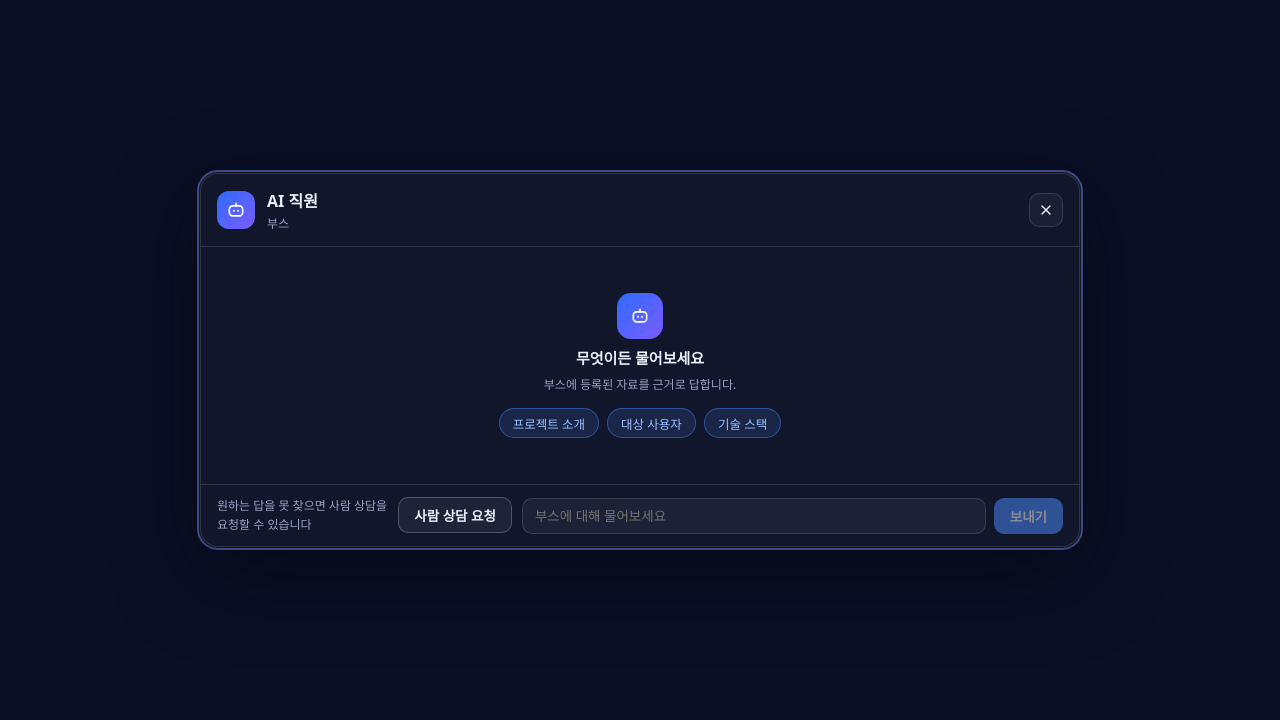
AiChatOverlay 실서버 결선·SSE 렌더링 › 종료 sequence 결번을 잘린 응답으로 안내한다
Click the button "프로젝트 소개" at (549, 423), box [499,408,599,438]
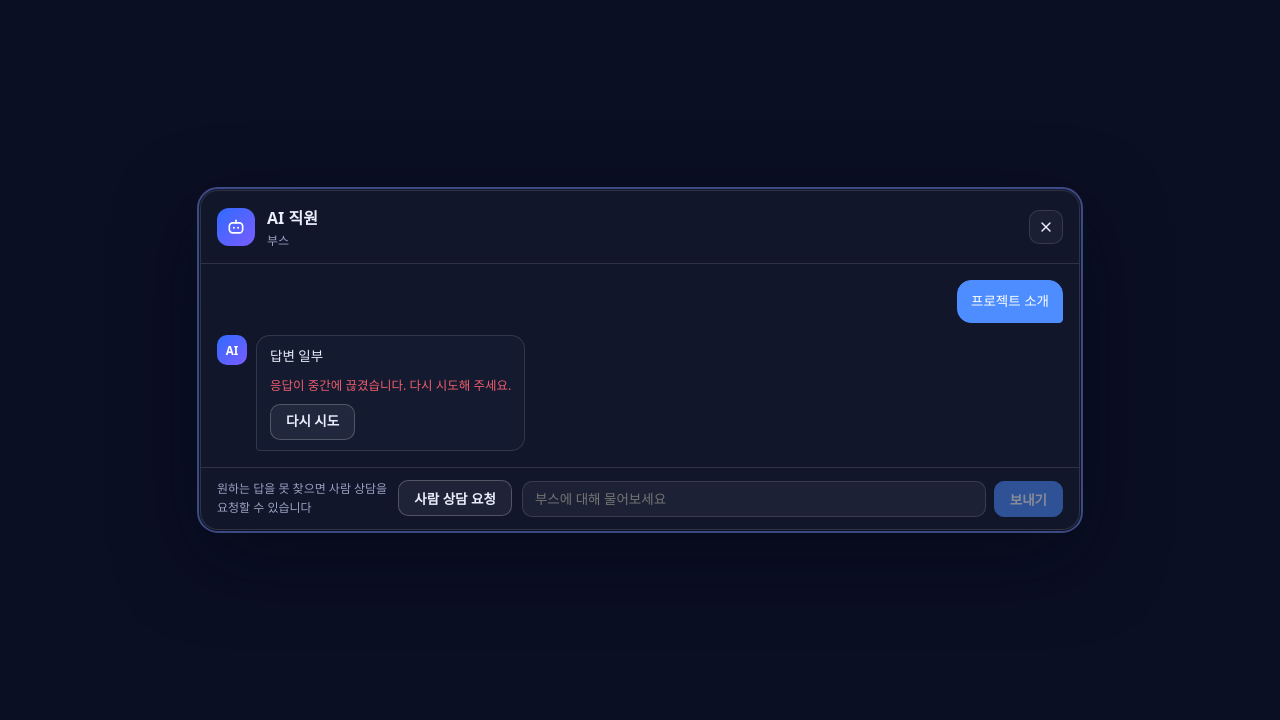
Expected: the message shows "응답이 중간에 끊겼습니다", [270,377,512,394]
Expected: the button "다시 시도" is shown, [270,404,355,440]
